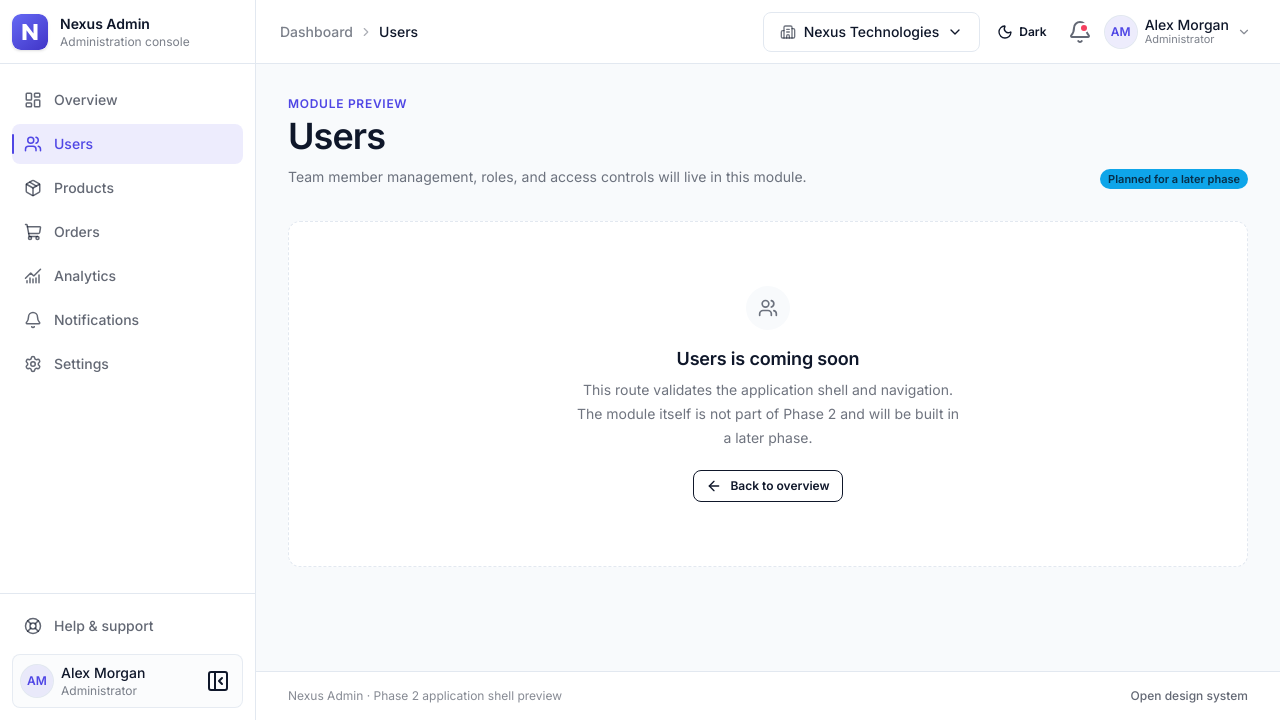
DashboardLayout › navigates back to the overview from breadcrumbs
The image size is (1280, 720).
expect the heading "Users" is shown: met, box [288,114,385,158]
Step 1. Click the link "Dashboard" → (316, 31), box [280,22,353,40]
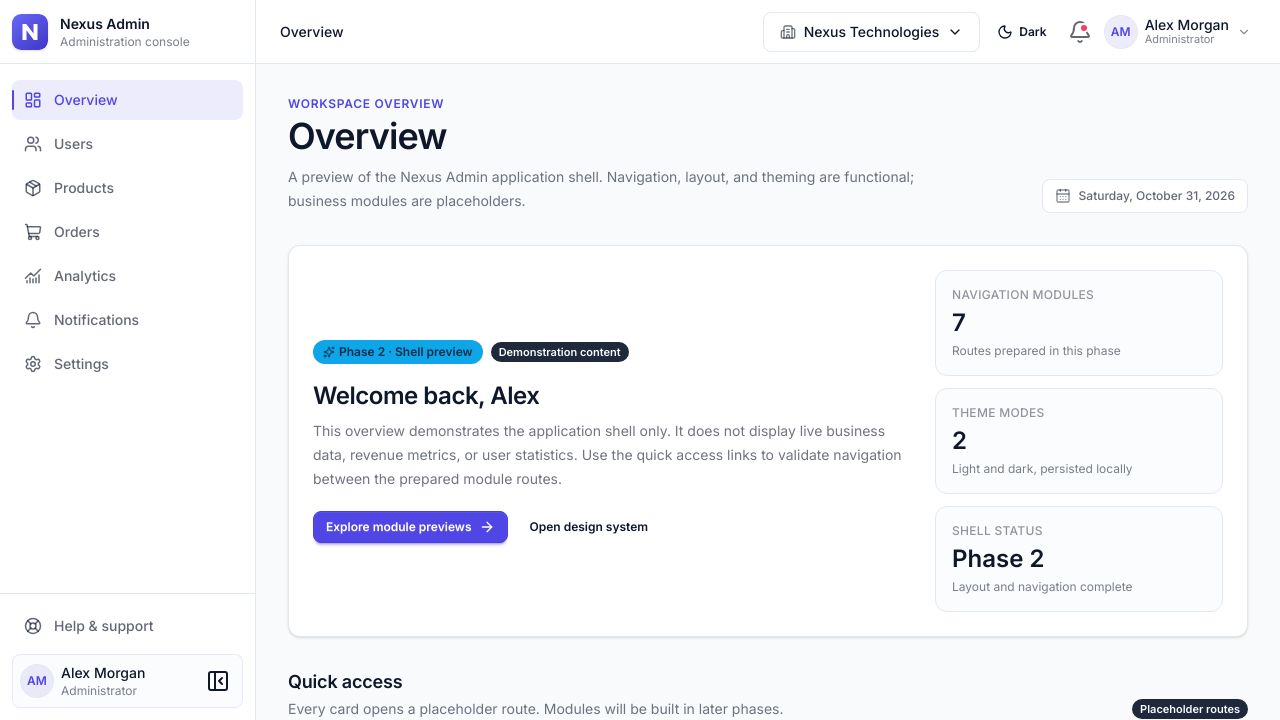
expect the heading "Overview" is shown: met, box [288,114,447,158]
